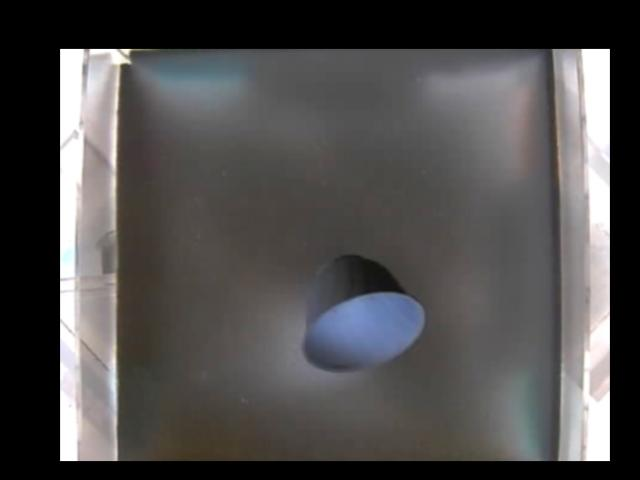Cup: (303, 254, 423, 373)
